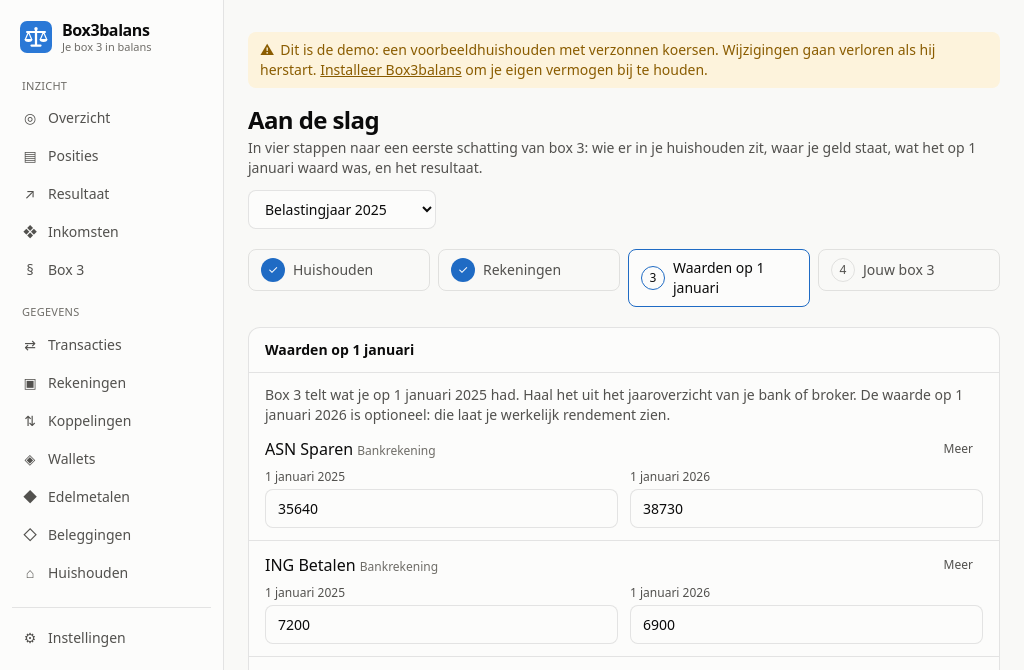
Test: Start wizard › keeps both values when you leave two fields in quick succession
Replace the text in the field labelled "1 januari 2025" below "ASN Sparen" with "30.000" at (442, 508), box [265,489,618,528]
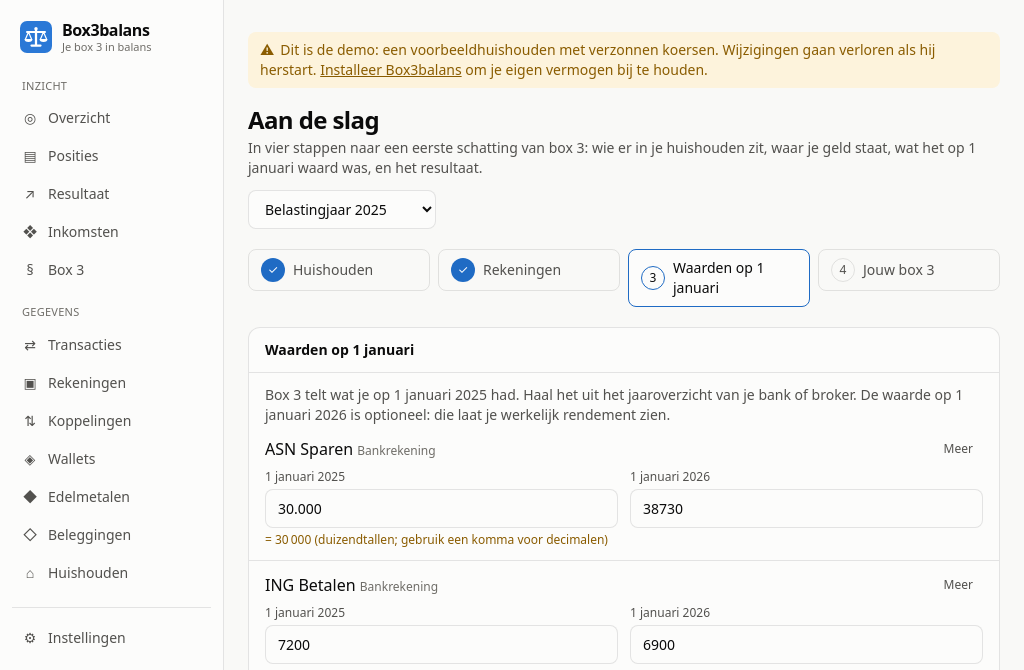
Replace the text in the 1st field labelled "1 januari 2026" with "31.000" at (806, 508), box [630,489,983,528]
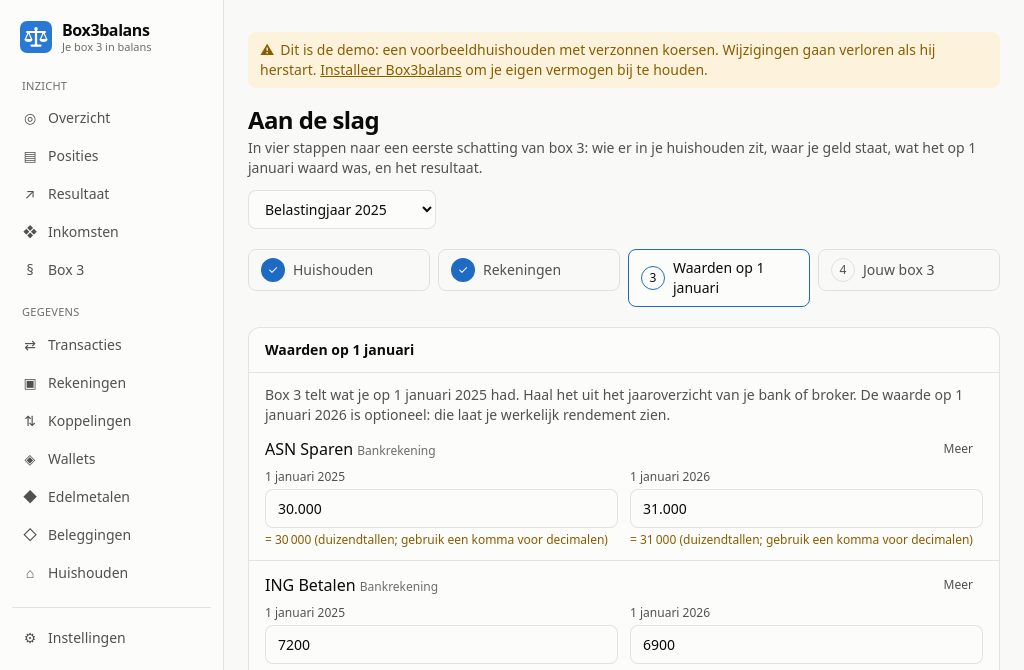
Leave the 1st field labelled "1 januari 2026", box [630,489,983,528]
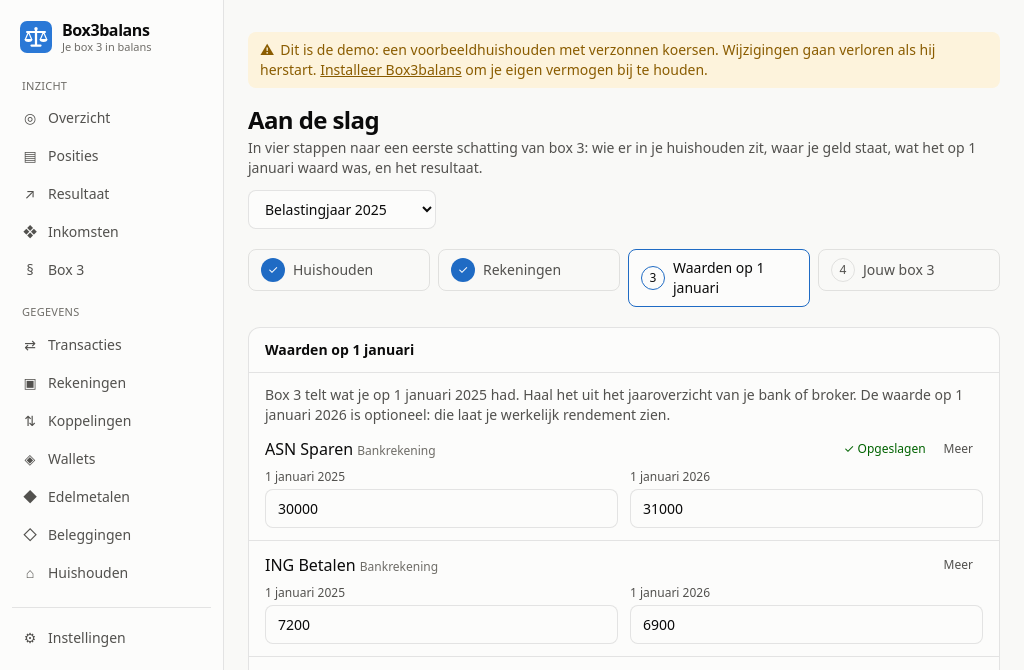
Check: the text "✓ Opgeslagen" is shown, box [844,441,926,457]
